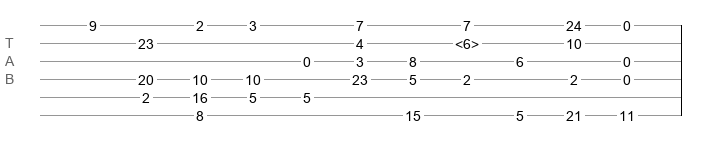0: (303, 54, 311, 64), (623, 54, 631, 64), (623, 18, 631, 28), (623, 72, 631, 82)
10: (192, 72, 208, 82), (245, 72, 261, 82), (566, 36, 582, 46)
11: (619, 108, 635, 118)
15: (405, 108, 421, 118)
16: (192, 90, 208, 100)
2: (142, 90, 150, 100), (196, 18, 204, 28), (463, 72, 471, 82), (570, 72, 578, 82)
20: (138, 72, 154, 82)
21: (566, 108, 582, 118)
23: (138, 36, 154, 46), (352, 72, 368, 82)
24: (566, 18, 582, 28)
3: (249, 18, 257, 28), (356, 54, 364, 64)
4: (356, 36, 364, 46)
5: (249, 90, 257, 100), (303, 90, 311, 100), (409, 72, 417, 82), (516, 108, 524, 118)
6: (516, 54, 524, 64)
7: (356, 18, 364, 28), (463, 18, 471, 28)
8: (196, 108, 204, 118), (409, 54, 417, 64)
9: (89, 18, 97, 28)
harmonic: (455, 36, 479, 46)
